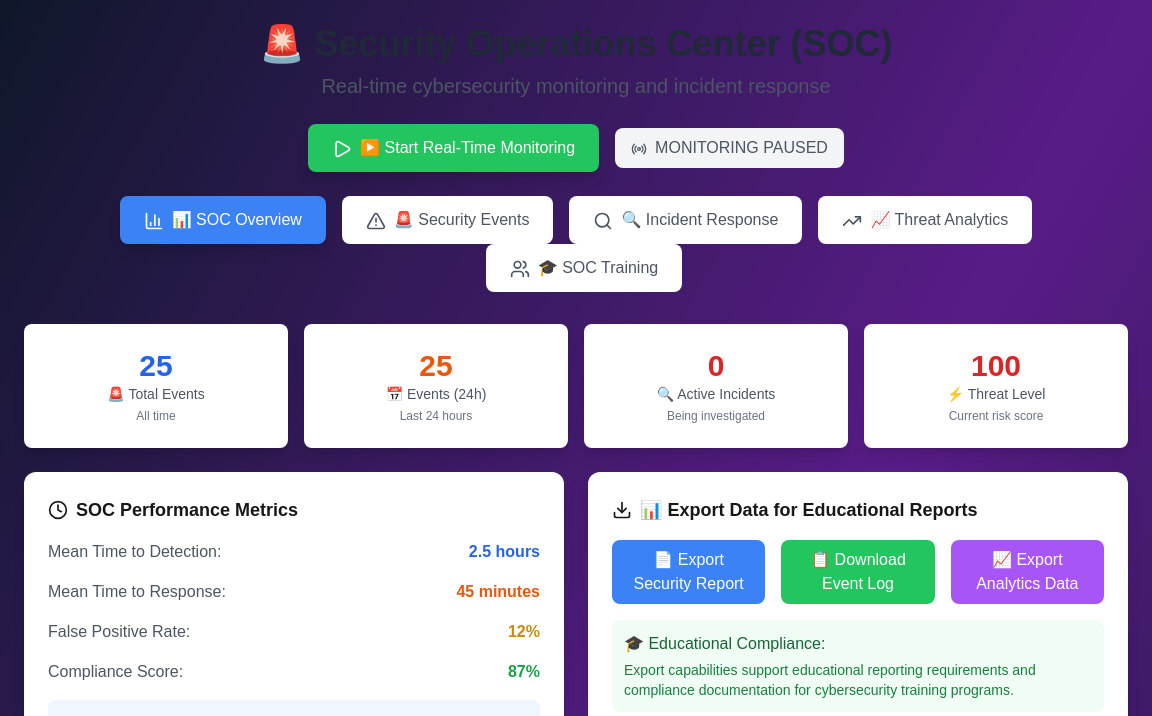
Test: 🛡️ SecurityMonitoringDashboard - Educational Safety Tests › ⚡ Real-Time Monitoring for Teachers › should start and stop real-time monitoring safely
// Start monitoring
Click the button "▶️ Start Real-Time Monitoring": coordinates (454, 148) [308, 124, 599, 172]
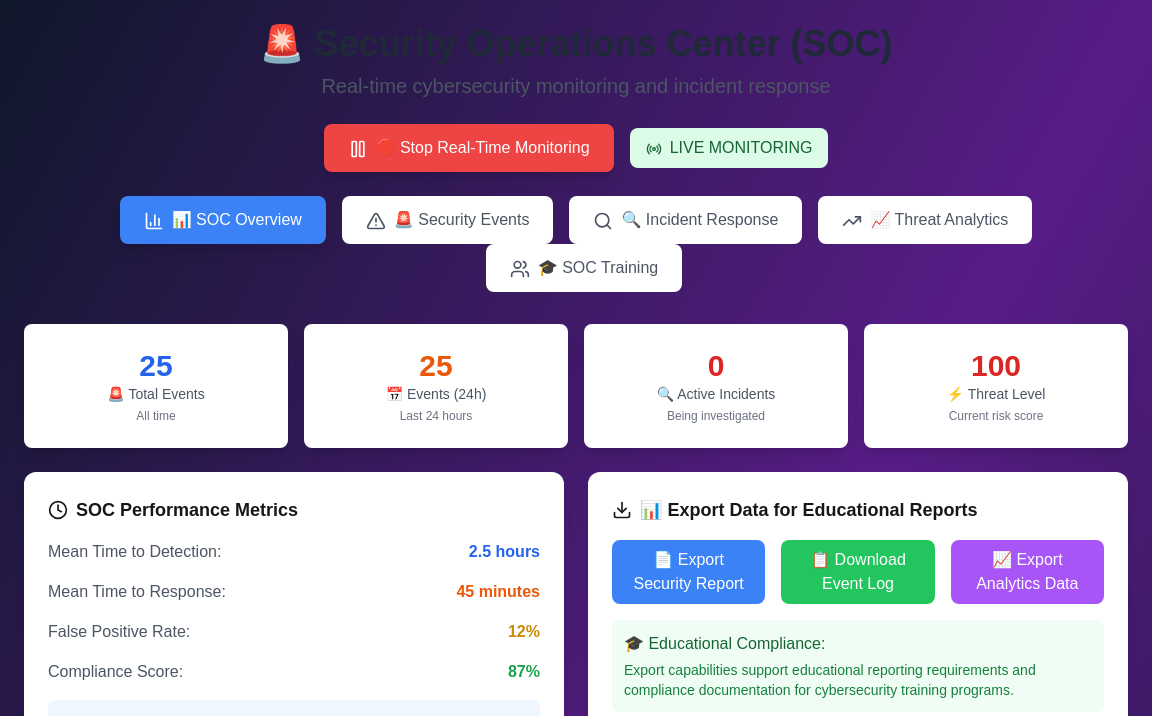
expect the button "🛑 Stop Real-Time Monitoring" is shown: met
expect the text "LIVE MONITORING" is shown: met, box [630, 128, 828, 168]
// Stop monitoring
Click the button "🛑 Stop Real-Time Monitoring": coordinates (469, 148) [324, 124, 614, 172]
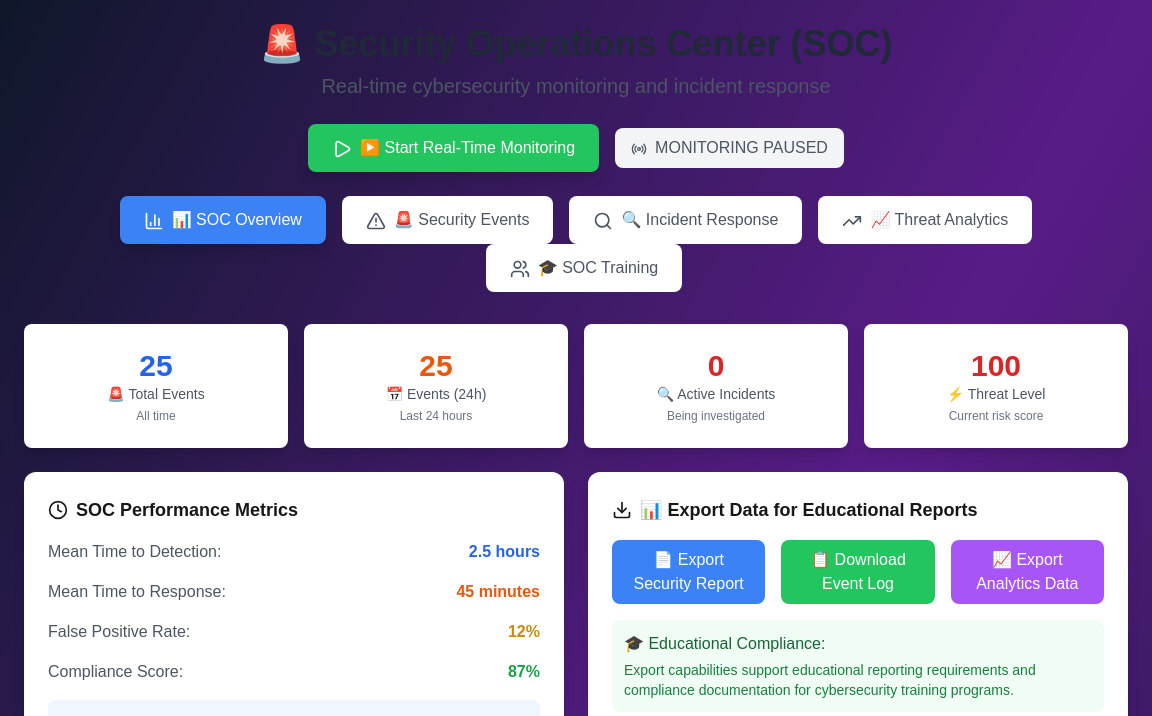
expect the button "▶️ Start Real-Time Monitoring" is shown: met, box [308, 124, 599, 172]
expect the text "MONITORING PAUSED" is shown: met, box [615, 128, 844, 168]
